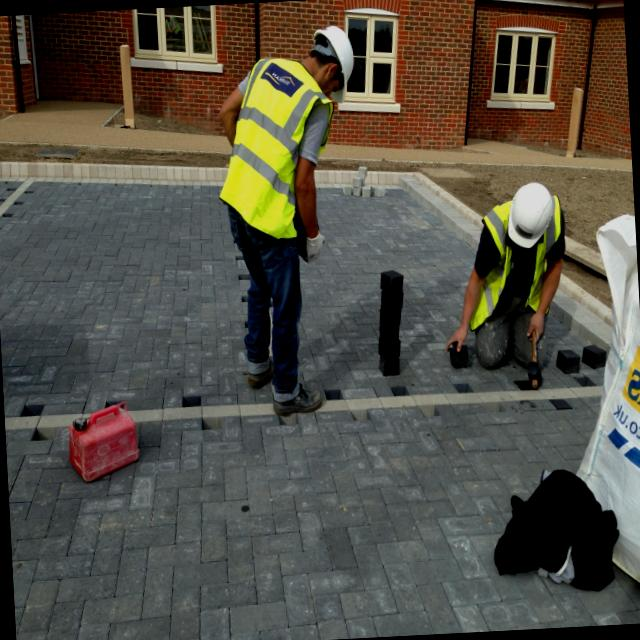helmet: (491, 174, 568, 258), (308, 20, 360, 96)
vest: (204, 71, 347, 252), (474, 237, 558, 321)
